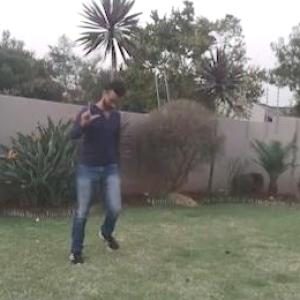land_hand: (73, 94, 98, 124)
